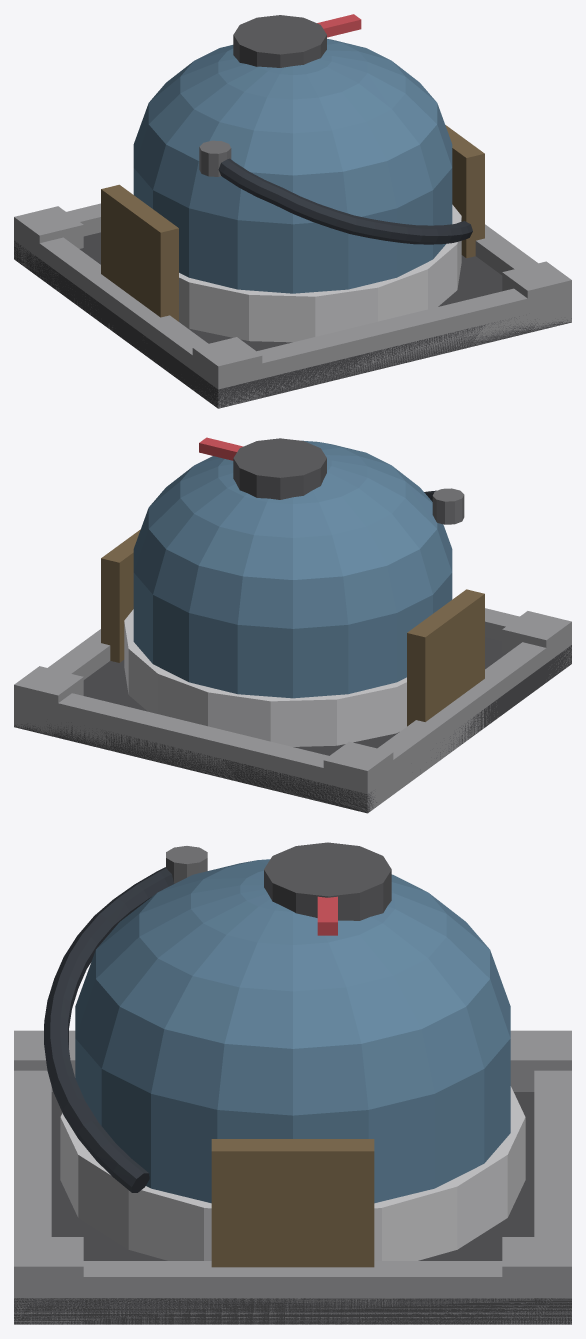
File: vge_life_support.obj
3 renders of one model, top to bottom at view 1: azimuth 30°, elevation 25°; view 2: azimuth 150°, elevation 25°; view 3: azimuth 270°, elevation 25°, orthographic. The views are drawn at different scales.
Parts seen in each view (by area): view 1: vge_life_support_12, vge_life_support_1, vge_life_support_11, vge_life_support_0, vge_life_support_9, vge_life_support_3, vge_life_support_15, vge_life_support_13, vge_life_support_10, vge_life_support_5, vge_life_support_6, vge_life_support_7 (+4 smaller); view 2: vge_life_support_12, vge_life_support_2, vge_life_support_11, vge_life_support_0, vge_life_support_9, vge_life_support_3, vge_life_support_13, vge_life_support_10, vge_life_support_5, vge_life_support_6, vge_life_support_8, vge_life_support_4 (+3 smaller); view 3: vge_life_support_12, vge_life_support_4, vge_life_support_0, vge_life_support_10, vge_life_support_11, vge_life_support_15, vge_life_support_13, vge_life_support_1, vge_life_support_2, vge_life_support_7, vge_life_support_8, vge_life_support_6 (+3 smaller).
Part boxes in pixels (x1,y1,x2,y2): vge_life_support_12: (133,39,452,293); vge_life_support_1: (204,288,571,408); vge_life_support_11: (179,204,461,342); vge_life_support_0: (14,232,571,408); vge_life_support_9: (101,184,178,321); vge_life_support_3: (27,235,208,394); vge_life_support_15: (218,158,472,244); vge_life_support_13: (233,15,326,67); vge_life_support_10: (445,125,484,258); vge_life_support_5: (192,337,262,407); vge_life_support_6: (14,206,83,274); vge_life_support_7: (502,261,571,322); vge_life_support_12: (133,440,452,698); vge_life_support_2: (14,692,381,812); vge_life_support_11: (124,609,406,746); vge_life_support_0: (14,637,571,813); vge_life_support_9: (407,589,484,726); vge_life_support_3: (377,642,546,802); vge_life_support_13: (233,438,326,499); vge_life_support_10: (101,529,140,662); vge_life_support_5: (502,611,571,676); vge_life_support_6: (323,741,393,812); vge_life_support_8: (14,666,83,735); vge_life_support_4: (48,629,110,679); vge_life_support_12: (75,859,510,1203); vge_life_support_4: (51,1261,534,1324); vge_life_support_0: (14,1092,571,1324); vge_life_support_10: (211,1139,374,1267); vge_life_support_11: (60,1086,525,1260); vge_life_support_15: (44,867,174,1192); vge_life_support_13: (264,842,391,920); vge_life_support_1: (14,1070,51,1324); vge_life_support_2: (534,1070,571,1324); vge_life_support_7: (14,1237,83,1323); vge_life_support_8: (502,1237,571,1324); vge_life_support_6: (510,1030,571,1091).
Size of the model in its own units: 1.92 by 1.28 by 1.92.
